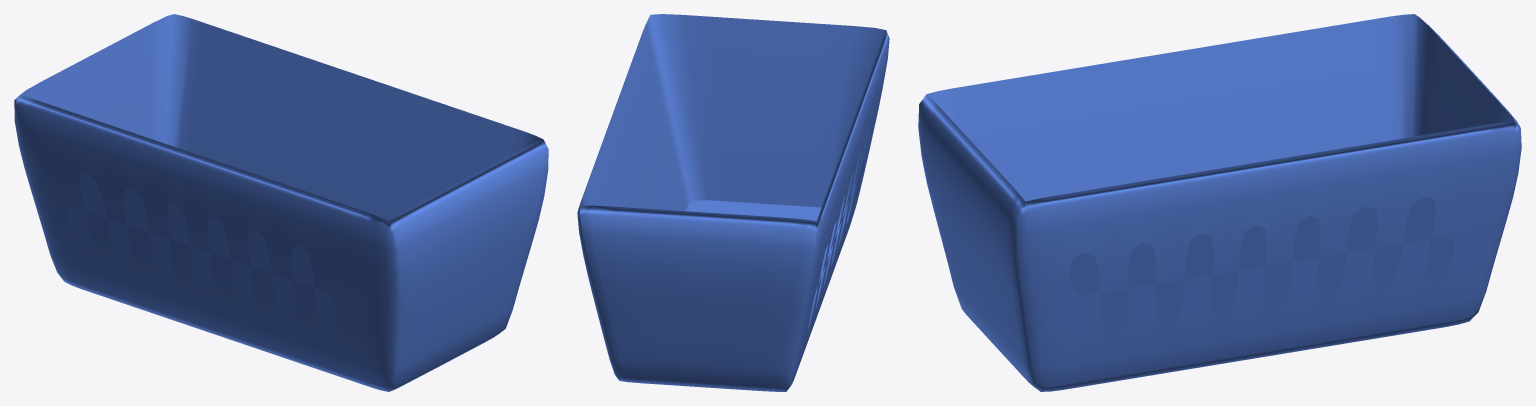
The model's file is Laundry_Basket.fbx.
The picture shows the model from 3 angles, left to right: view 1: azimuth 30°, elevation 25°; view 2: azimuth 150°, elevation 25°; view 3: azimuth 270°, elevation 25°; orthographic projection. The views are drawn at different scales.
Parts seen in each view (by area): view 1: pCube15; view 2: pCube15; view 3: pCube15.
Boxes of the visible parts, bbox=[...] form: pCube15: bbox=[14, 14, 548, 391]; pCube15: bbox=[577, 14, 889, 391]; pCube15: bbox=[918, 14, 1521, 391].
Bounding box in the file's own units: 2.07 × 1.09 × 2.77.
